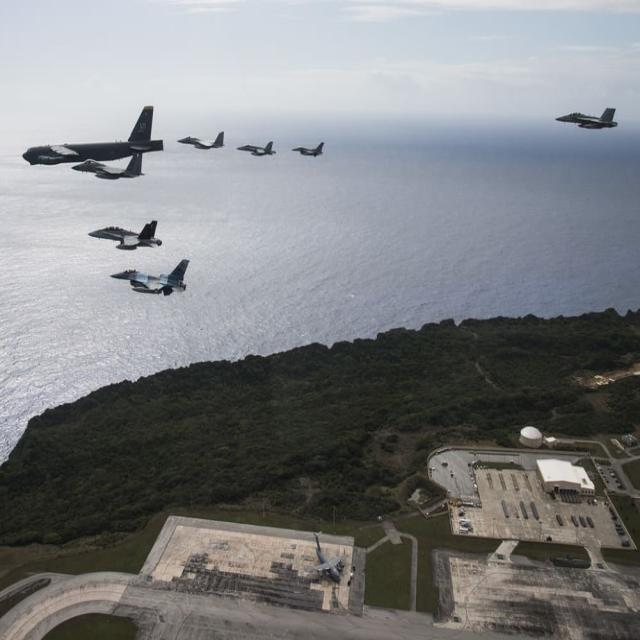MIL_Plane: (3, 107, 145, 165), (108, 258, 190, 297), (87, 220, 163, 251), (70, 152, 148, 180), (302, 530, 341, 583), (554, 108, 618, 130), (177, 130, 226, 150), (236, 140, 276, 157), (291, 141, 325, 157)
